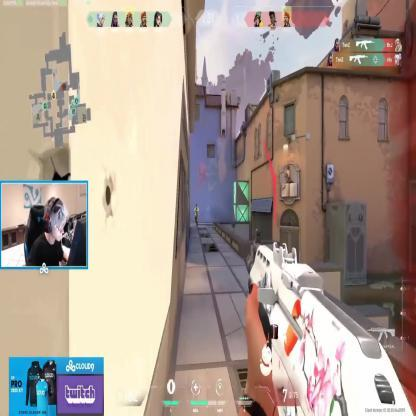enemy: (194, 204, 198, 226)
enemy_head: (196, 204, 198, 208)
